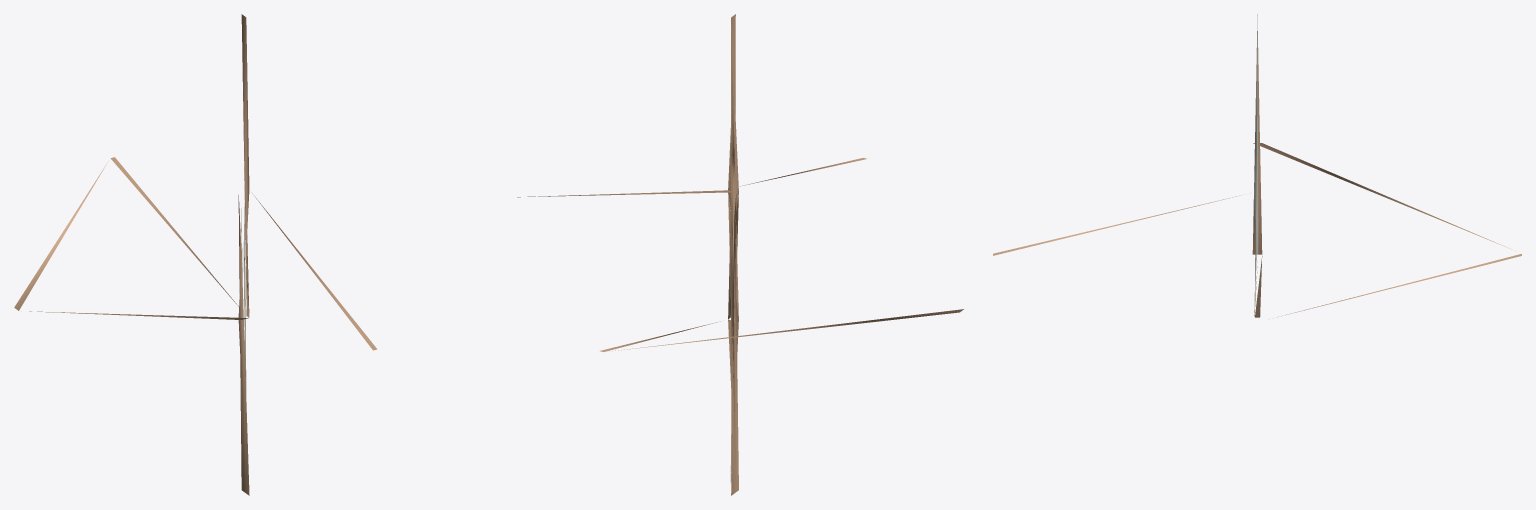
File: equip_weapon_maple_shortbow.glb
3 views of the same model, side by side, from view 1: azimuth 30°, elevation 25°; view 2: azimuth 150°, elevation 25°; view 3: azimuth 270°, elevation 25° (orthographic).
Visible parts, largest first — view 1: equip_weapon_maple_shortbow; view 2: equip_weapon_maple_shortbow; view 3: equip_weapon_maple_shortbow.
Part boxes in pixels (box(x1,y1,x2,y2)): equip_weapon_maple_shortbow: box(14, 14, 377, 495); equip_weapon_maple_shortbow: box(517, 14, 963, 495); equip_weapon_maple_shortbow: box(993, 14, 1521, 317).
Bounding box in the file's own units: 2 × 2 × 2.
